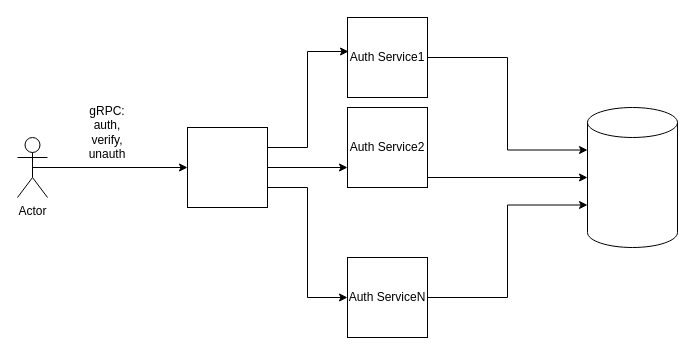
The diagram is 695 pixels wide and 355 high, and some of its shapes have lost their labels. Each missing label, with the centre of its shape:
"Load Balancer" goes at pixel 227 167.
"Tokens Storage" goes at pixel 632 177.
